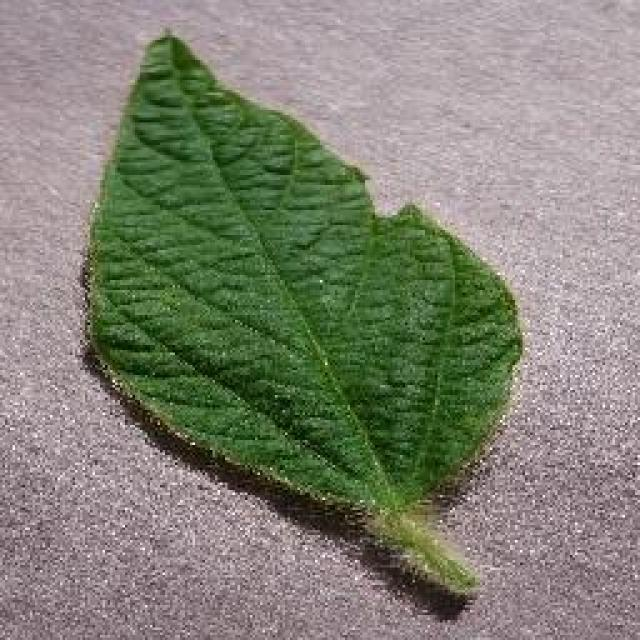Soy_healthy: (98, 54, 510, 509)
